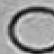no answer: (7, 5, 54, 53)
